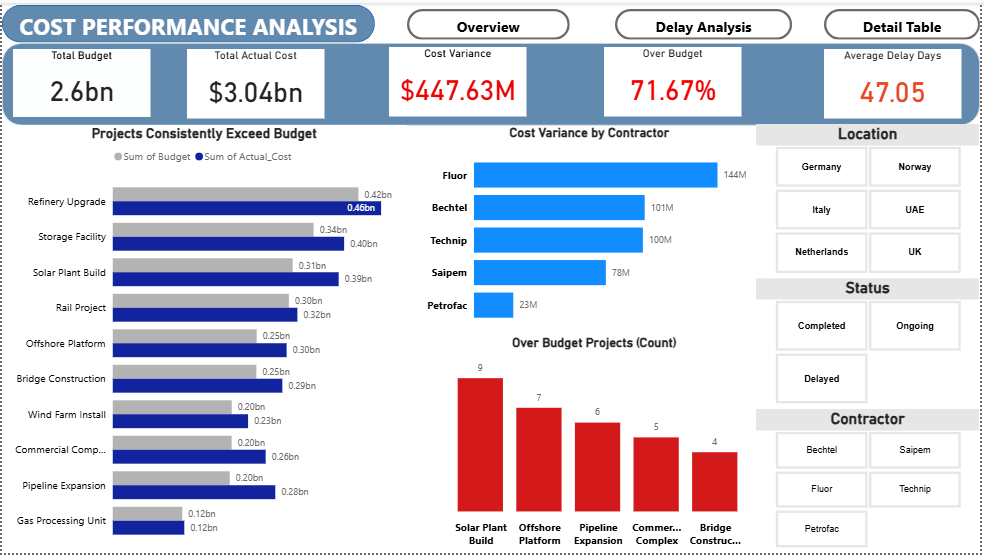

The dashboard page shown, as its layout file describes it:
{"tool":"powerbi","page":{"name":"Cost Analysis","canvas":[1280,720],"ordinal":1},"visuals":[{"type":"shape","box":[0,2.9,488.2,49],"z":0},{"type":"shape","box":[0,51.8,1280,108],"z":0,"group":"g3"},{"type":"group","id":"g1","title":"Group 1","box":[0,51.8,1280,108],"z":1000},{"type":"card","title":"Total Budget","fields":{"Values":["enhanced_engineering_dataset.Total Budget"]},"box":[14.4,59,180,89.3],"z":1000,"group":"g3"},{"type":"actionButton","title":"Overview","box":[529.9,7.2,213.1,40.3],"z":2000},{"type":"card","title":"Total Actual Cost","fields":{"Values":["enhanced_engineering_dataset.Total Actual Cost"]},"box":[241.9,59,180,90.7],"z":2000,"group":"g3"},{"type":"card","title":"Cost Variance","fields":{"Values":["enhanced_engineering_dataset.Cost Variance"]},"box":[506.9,57.6,180,90.7],"z":3000,"group":"g3"},{"type":"actionButton","title":"Overview","box":[1075.7,7.2,204.5,40.3],"z":4000},{"type":"card","title":"Average Delay Days","fields":{"Values":["enhanced_engineering_dataset.Avg Delay Days"]},"box":[1075.7,59,180,90.7],"z":4000,"group":"g3"},{"type":"actionButton","title":"Overview","box":[802.1,7.2,231.8,40.3],"z":5000},{"type":"card","title":"Over Budget","fields":{"Values":["enhanced_engineering_dataset.Over Budget %"]},"box":[787.7,57.6,180,90.7],"z":5000,"group":"g3"},{"type":"barChart","fields":{"Category":["enhanced_engineering_dataset.Contractor"],"Y":["enhanced_engineering_dataset.Cost Variance"]},"box":[549.6,159.6,438,275.5],"z":6000},{"type":"clusteredBarChart","title":"Projects Consistently Exceed Budget","fields":{"Category":["enhanced_engineering_dataset.Project_Name"],"Y":["Sum(enhanced_engineering_dataset.Budget)","Sum(enhanced_engineering_dataset.Actual_Cost)"]},"box":[0,159.6,529.8,560.9],"z":7000},{"type":"columnChart","title":"Over Budget Projects (Count)","fields":{"Category":["enhanced_engineering_dataset.Project_Name"],"Y":["CountNonNull(enhanced_engineering_dataset.Cost_Overrun_Flag)"]},"box":[549.6,435.1,450.7,284],"z":8000},{"type":"slicer","title":"Status","fields":{"Values":["enhanced_engineering_dataset.Status"]},"box":[987.5,359.8,292.4,171.5],"z":9000,"group":"g2"},{"type":"slicer","title":"Contractor","fields":{"Values":["enhanced_engineering_dataset.Contractor"]},"box":[987.5,531.2,292.5,187.9],"z":10000,"group":"g2"},{"type":"slicer","title":"Location","fields":{"Values":["enhanced_engineering_dataset.Location"]},"box":[987.6,158.4,292.3,201.6],"z":11000,"group":"g2"},{"type":"group","id":"g2","title":"Group 2","box":[987.5,158.4,292.5,560.7],"z":11001},{"type":"group","id":"g3","title":"Group 3","box":[0,51.8,1280,108],"z":11002,"group":"g1"}]}

Visuals, with their boxes in screenshot pixels (x1, y1, x2, y2), scaled from the page's 1280x720 canvas onto the 984x557 screenshot:
shape: box=[0, 2, 375, 40]
shape: box=[0, 40, 983, 124]
"Group 1" group: box=[0, 40, 983, 124]
"Total Budget" card: box=[11, 46, 149, 115]
"Overview" actionButton: box=[407, 6, 571, 37]
"Total Actual Cost" card: box=[186, 46, 324, 116]
"Cost Variance" card: box=[390, 45, 528, 115]
"Overview" actionButton: box=[827, 6, 983, 37]
"Average Delay Days" card: box=[827, 46, 965, 116]
"Overview" actionButton: box=[617, 6, 795, 37]
"Over Budget" card: box=[606, 45, 744, 115]
barChart - enhanced_engineering_dataset.Contractor x enhanced_engineering_dataset.Cost Variance: box=[423, 123, 759, 337]
"Projects Consistently Exceed Budget" clusteredBarChart: box=[0, 123, 407, 556]
"Over Budget Projects (Count)" columnChart: box=[423, 337, 769, 556]
"Status" slicer: box=[759, 278, 983, 411]
"Contractor" slicer: box=[759, 411, 983, 556]
"Location" slicer: box=[759, 123, 983, 278]
"Group 2" group: box=[759, 123, 983, 556]
"Group 3" group: box=[0, 40, 983, 124]
